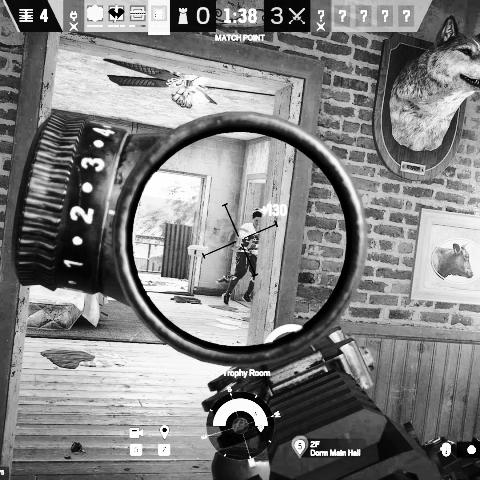Character: (221, 206, 264, 306)
Head: (251, 207, 264, 227)
